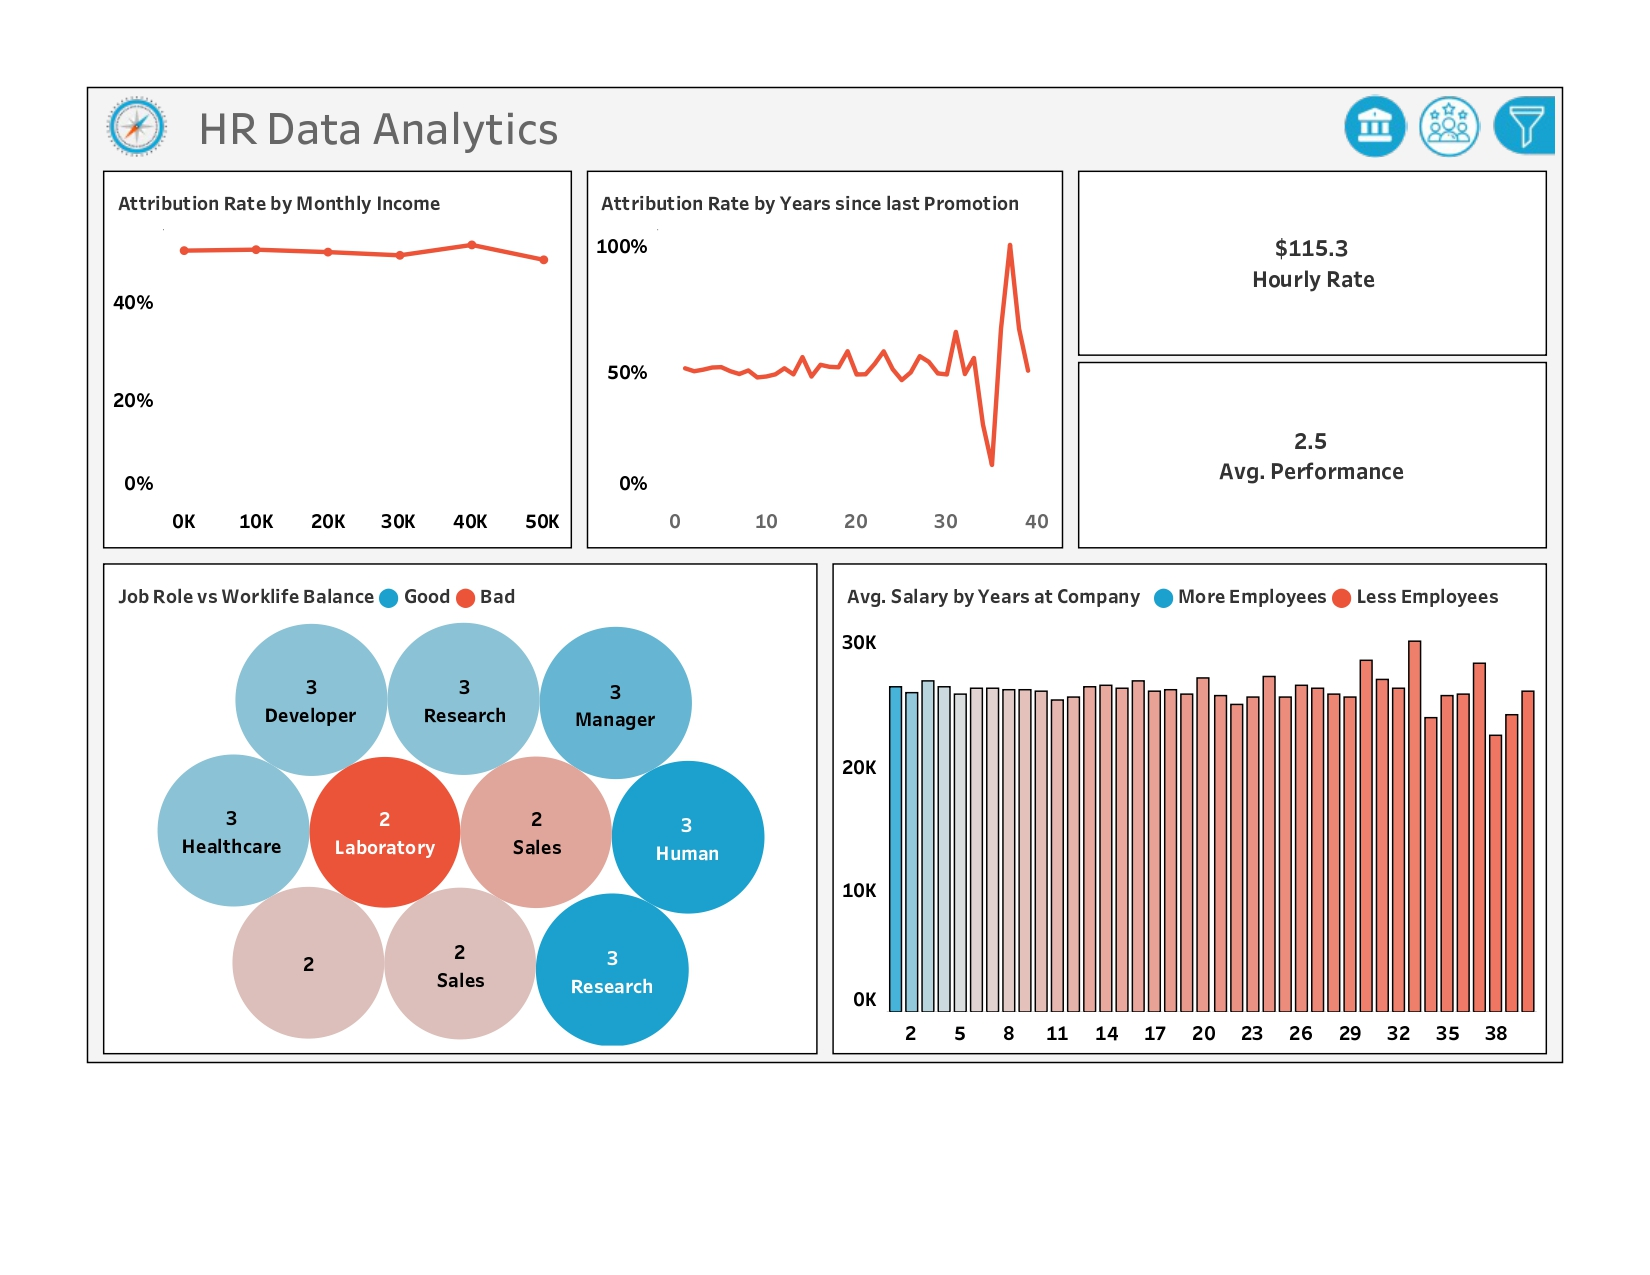

The dashboard page shown, as its layout file describes it:
{"tool":"tableau","page":{"name":"Report 2","canvas":[1020,680],"ordinal":1},"visuals":[{"type":"image","param":"Image/Icon - Logo.png","box":[9,9,68,51]},{"type":"text","box":[77,9,782,51]},{"type":"dashboard-object","box":[859,9,51,51]},{"type":"dashboard-object","box":[910,9,50,51]},{"type":"dashboard-object","box":[960,9,51,51]},{"type":"filter","title":"Avg. Hourly Rate","param":"[federated.0b553ce0a2or2e121jk1u0apz5j8].[none:EducationField:nk]","box":[22,18,198,161]},{"type":"worksheet","title":"Income","mark":"Line","rows":["Calculation_104990190703656961"],"cols":["Monthly Income (bin)"],"box":[9,60,334,267]},{"type":"worksheet","title":"Yrs. since last promotion","mark":"Line","rows":["Calculation_104990190703656961"],"cols":["YearsSinceLastPromotion"],"box":[343,60,334,267]},{"type":"worksheet","title":"Avg. Hourly Rate","mark":"Automatic","box":[677,60,334,133.5]},{"type":"filter","title":"Avg. Hourly Rate","param":"[federated.0b553ce0a2or2e121jk1u0apz5j8].[none:BusinessTravel:nk]","box":[22,179,198,161]},{"type":"worksheet","title":"Avg. Performance","mark":"Automatic","box":[677,193.5,334,133.5]},{"type":"worksheet","title":"Worklife Balance","mark":"Circle","box":[9,327,501,344]},{"type":"worksheet","title":"Avg Income","mark":"Bar","rows":["MonthlyIncome"],"cols":["Years At Company (bin)"],"box":[510,327,501,344]},{"type":"filter","title":"Avg. Hourly Rate","param":"[federated.0b553ce0a2or2e121jk1u0apz5j8].[none:Gender:nk]","box":[22,340,198,161]},{"type":"filter","title":"Avg. Hourly Rate","param":"[federated.0b553ce0a2or2e121jk1u0apz5j8].[none:MaritalStatus:nk]","box":[22,501,198,161]}]}

Visuals, with their boxes on the page's 1020x680 design canvas (x1, y1, x2, y2). These are canvas units, not pixel positions in the 1650x1275 screenshot, which may show the page scaled, cropped or inside an application window:
image: box=[9, 9, 77, 60]
text: box=[77, 9, 859, 60]
dashboard-object: box=[859, 9, 910, 60]
dashboard-object: box=[910, 9, 960, 60]
dashboard-object: box=[960, 9, 1011, 60]
"Avg. Hourly Rate" filter: box=[22, 18, 220, 179]
"Income" worksheet (Line marks): box=[9, 60, 343, 327]
"Yrs. since last promotion" worksheet (Line marks): box=[343, 60, 677, 327]
"Avg. Hourly Rate" worksheet: box=[677, 60, 1011, 194]
"Avg. Hourly Rate" filter: box=[22, 179, 220, 340]
"Avg. Performance" worksheet: box=[677, 194, 1011, 327]
"Worklife Balance" worksheet (Circle marks): box=[9, 327, 510, 671]
"Avg Income" worksheet (Bar marks): box=[510, 327, 1011, 671]
"Avg. Hourly Rate" filter: box=[22, 340, 220, 501]
"Avg. Hourly Rate" filter: box=[22, 501, 220, 662]
